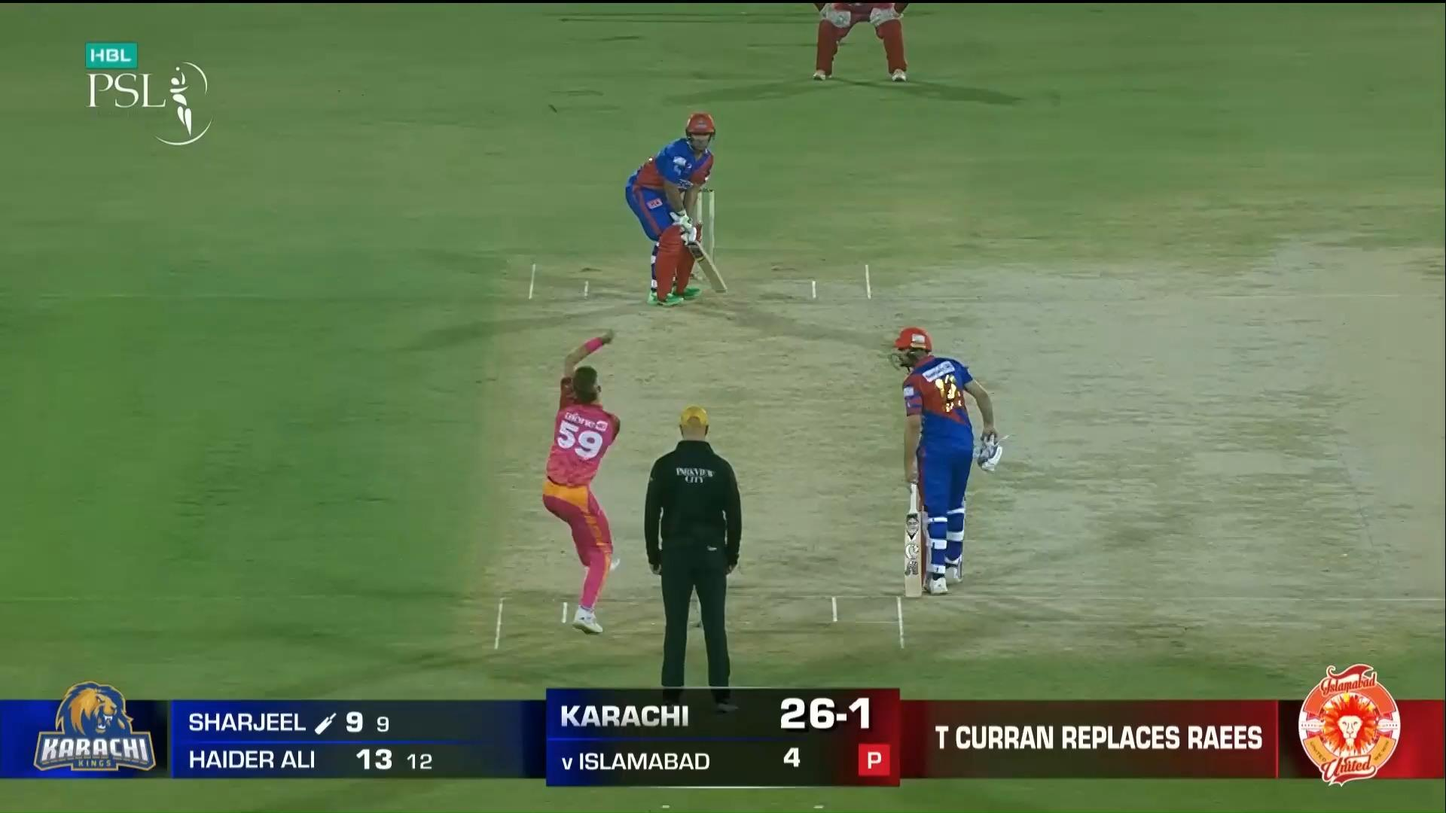batsman: (625, 111, 729, 308)
